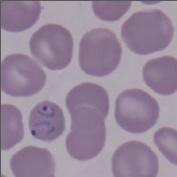Infected: (28, 100, 66, 142)
Uninfected: (120, 10, 174, 56), (65, 104, 106, 161), (0, 52, 47, 97), (114, 88, 160, 133), (79, 28, 121, 77), (29, 24, 73, 70), (66, 82, 109, 122), (112, 140, 158, 177), (142, 55, 177, 96), (10, 146, 55, 177), (0, 0, 40, 32), (0, 104, 25, 151), (154, 126, 177, 166)
